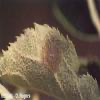Apple Scab Leaf: (1, 13, 99, 98)
